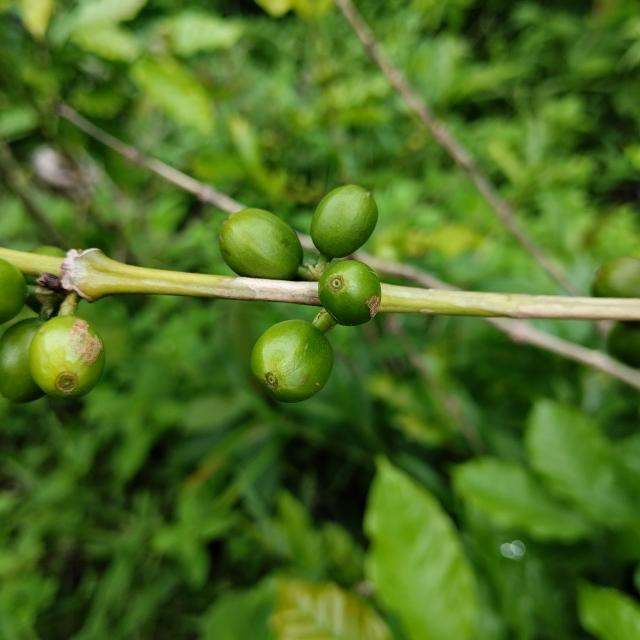green: (250, 320, 333, 403), (28, 314, 105, 398), (219, 208, 303, 280), (310, 185, 378, 260), (319, 260, 382, 326), (0, 318, 44, 403), (0, 258, 26, 324)
